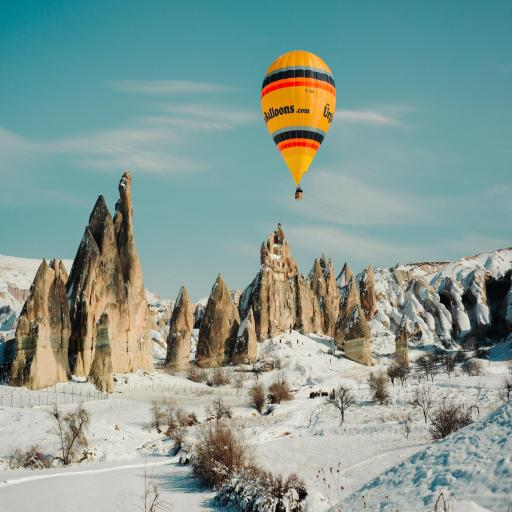hot air ballon: (260, 49, 337, 201)
